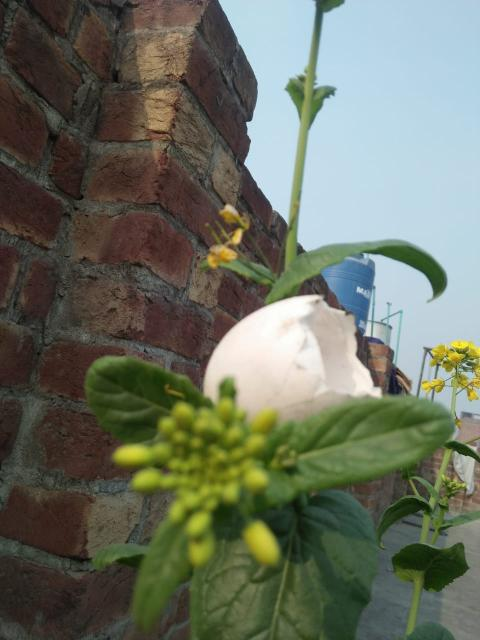Roto: (201, 293, 382, 432)
